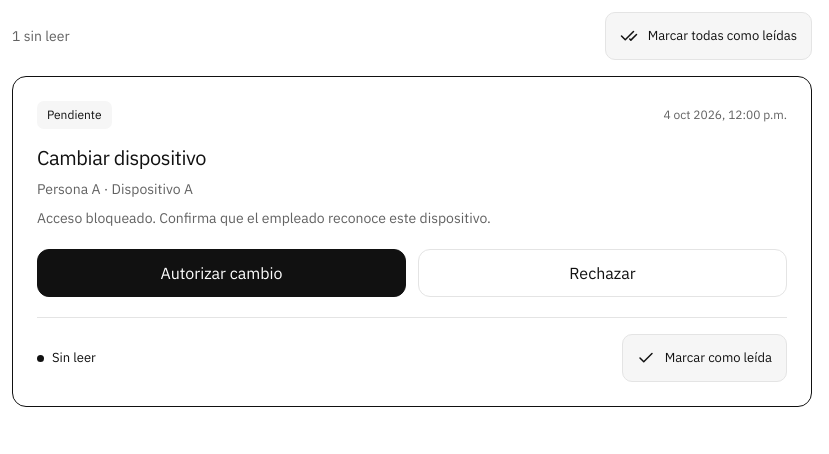
Test: visible read actions confirm through the existing API without approving device access
What coordinates should you click on to do the following:
click the button "Marcar como leída"
I would click on:
 (704, 358)
Its box is [622,334,787,382].
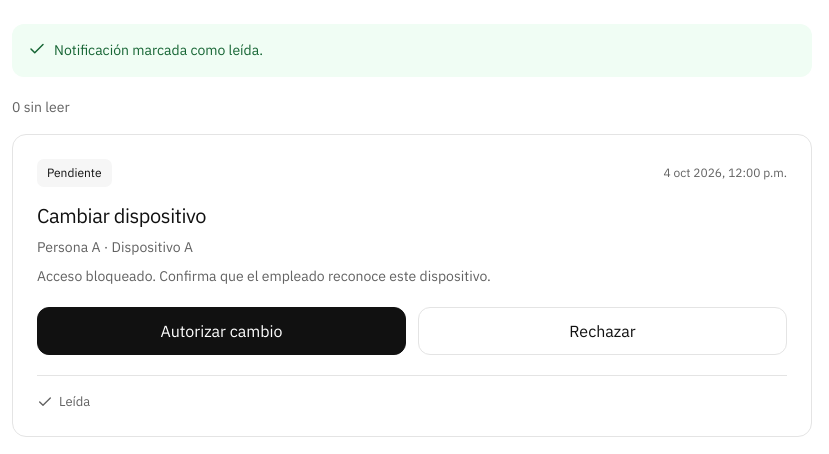
Check: the text "Persona A" is shown, box [37,238,100,256]
Check: the text "Leída" is shown, box [37,392,90,412]
Check: the button "Marcar como leída" is gone
